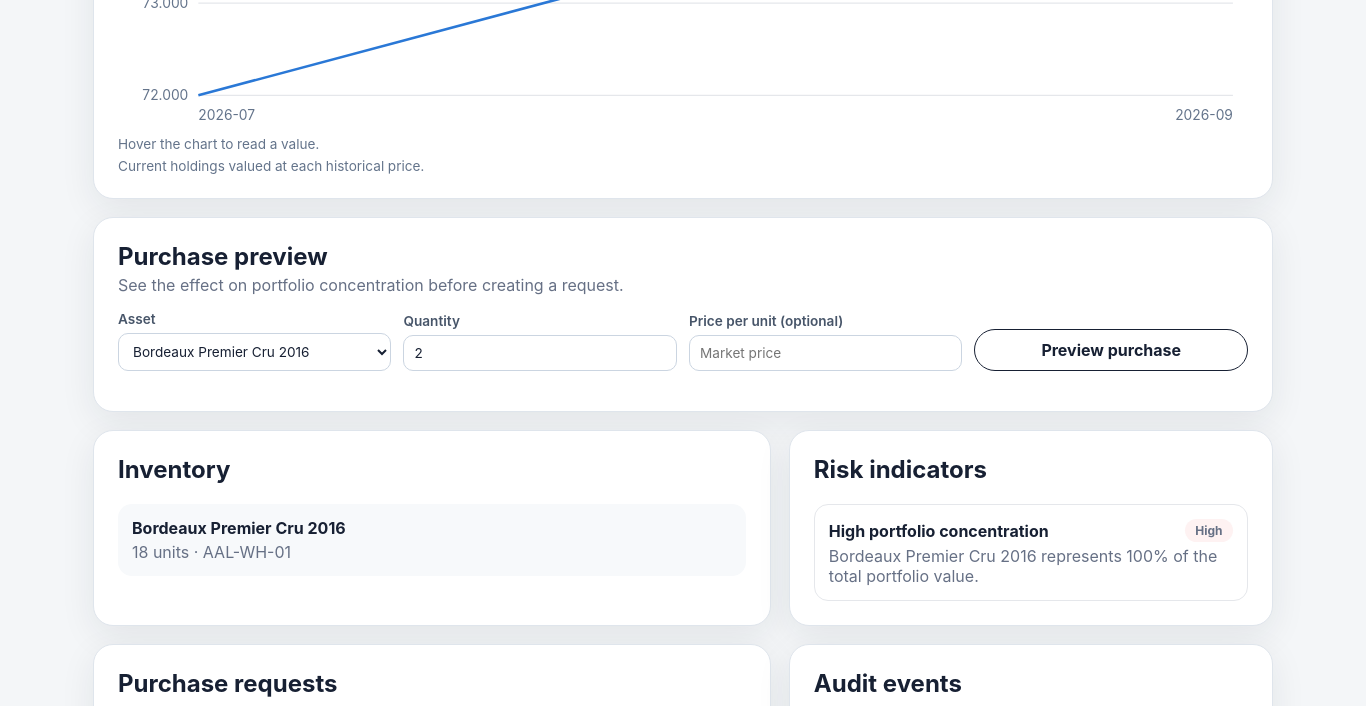
Purchase preview › creates the purchase request only on the explicit action, with the previewed values
(page scrolled)
Step 1. Click the button "Preview purchase" → [1111, 350], box top-left (974, 329), bottom-right (1248, 371)
(page scrolled)
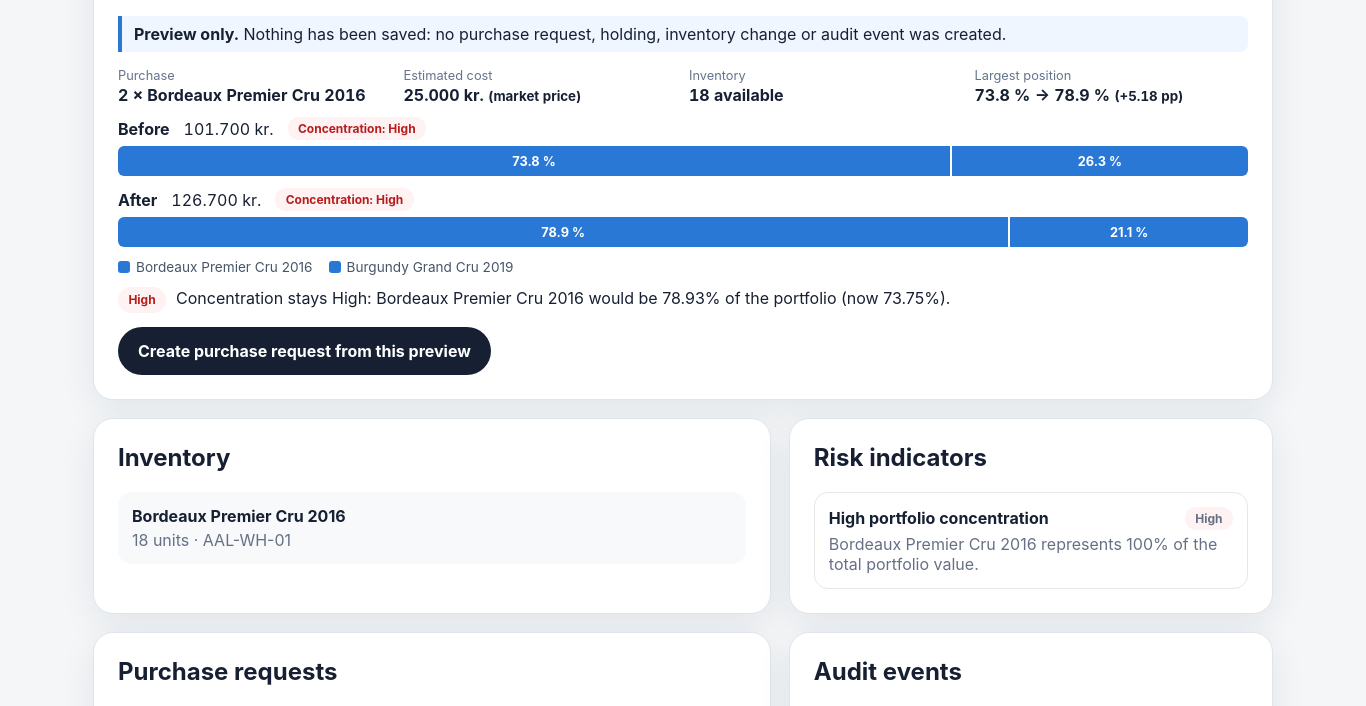
Step 2. Click the button "Create purchase request from this preview" → [304, 351], box top-left (118, 327), bottom-right (491, 375)
(page scrolled)
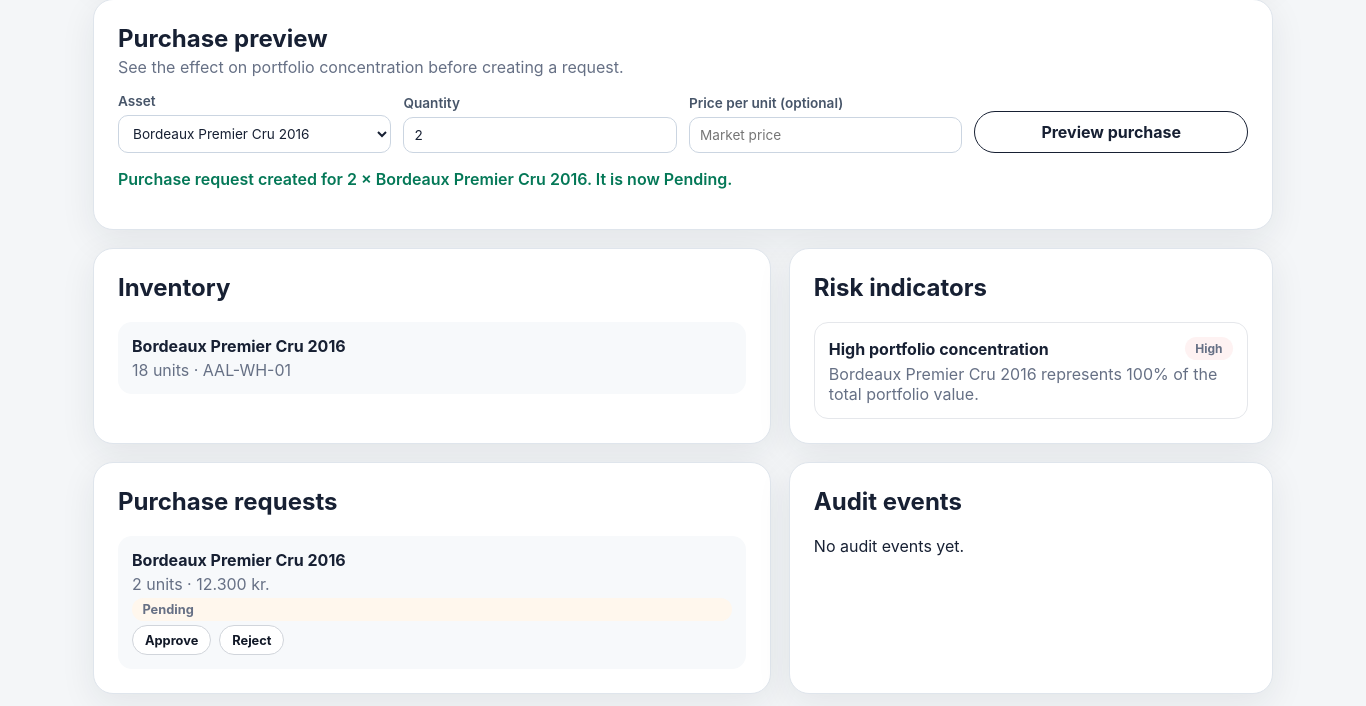
Check: the message shows "Purchase request created for 2 × Bordeaux Premier Cru 2016", box top-left (118, 169), bottom-right (732, 189)
